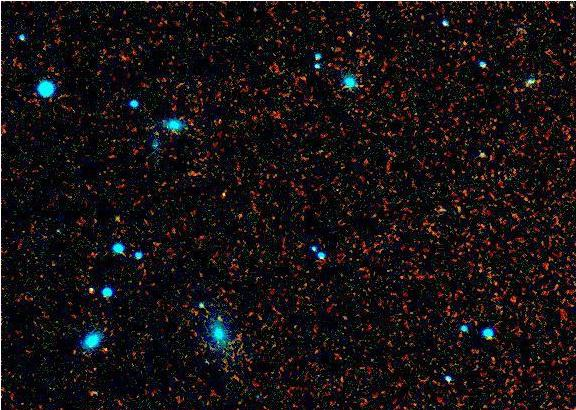star: (205, 302, 235, 332)
